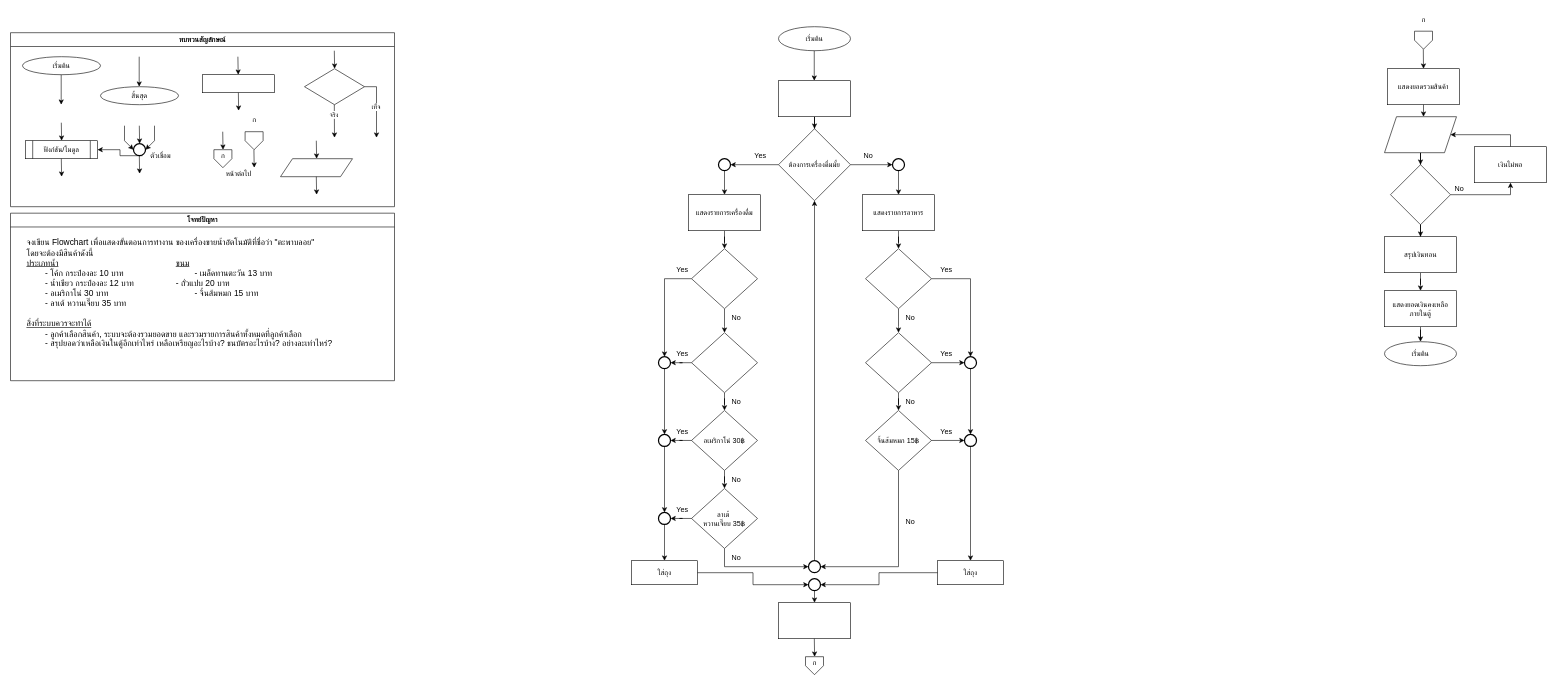
Some shapes in this 1557 by 685 pixel diagram are drawn without their labels. Here are the shapes that lost their labels. From the top down, the centre of each, then its label:
At point (238, 83): "กระบวนการ".
At point (334, 86): "ประโยคเงื่อนไข".
At point (814, 98): "แสดงรายการสินค้า".
At point (1420, 134): "รับเงิน".
At point (316, 167): "แสดงผล/รับค่า".
At point (1420, 194): "ตรวจสอบ จำนวนเงิน".
At point (724, 278): "โค้ก 10฿".
At point (898, 278): "เมล็ดทานตะวัน 13฿".
At point (724, 362): "น้ำเขียว 12฿".
At point (898, 362): "ถั่วแปบ 20฿".
At point (814, 620): "รวมรายการสินค้า".
